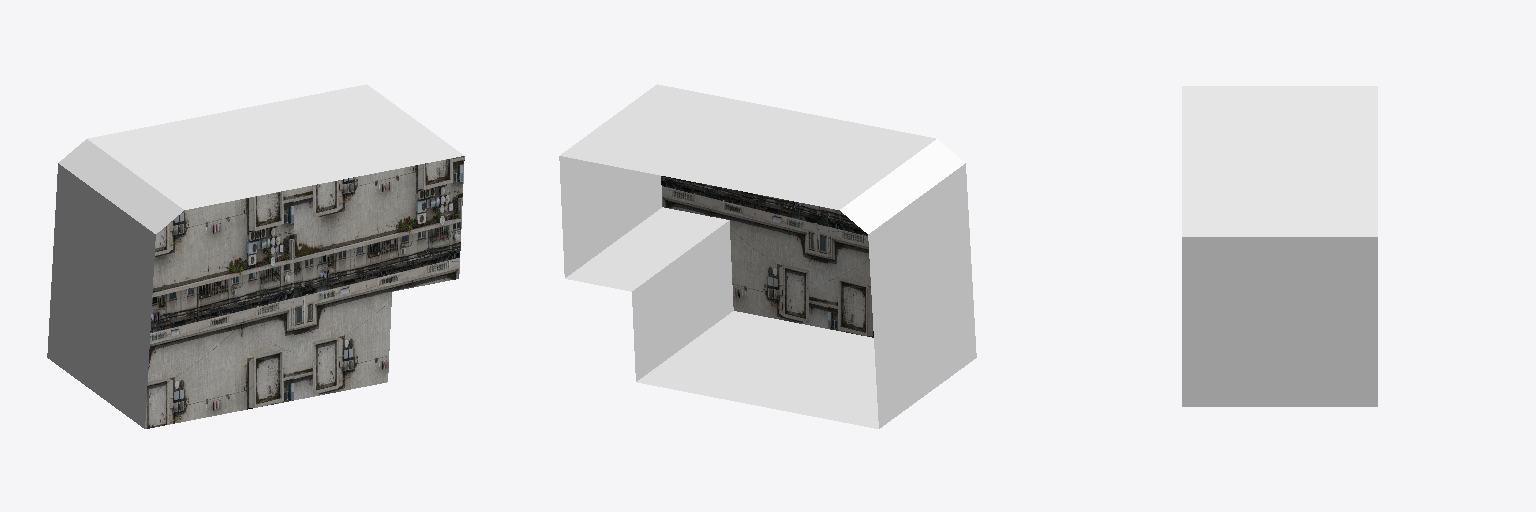
3 renders of one model, left to right at view 1: azimuth 30°, elevation 25°; view 2: azimuth 150°, elevation 25°; view 3: azimuth 270°, elevation 25°, orthographic.
Parts seen in each view (by area): view 1: Building; view 2: Building; view 3: Building.
Boxes of the visible parts, <box> form: Building: <box>47,84,464,428</box>; Building: <box>559,84,976,428</box>; Building: <box>1182,86,1377,406</box>.
Bounding box in the file's own units: 33.98 × 22.52 × 18.
Materials: 2 (1 with a texture image).